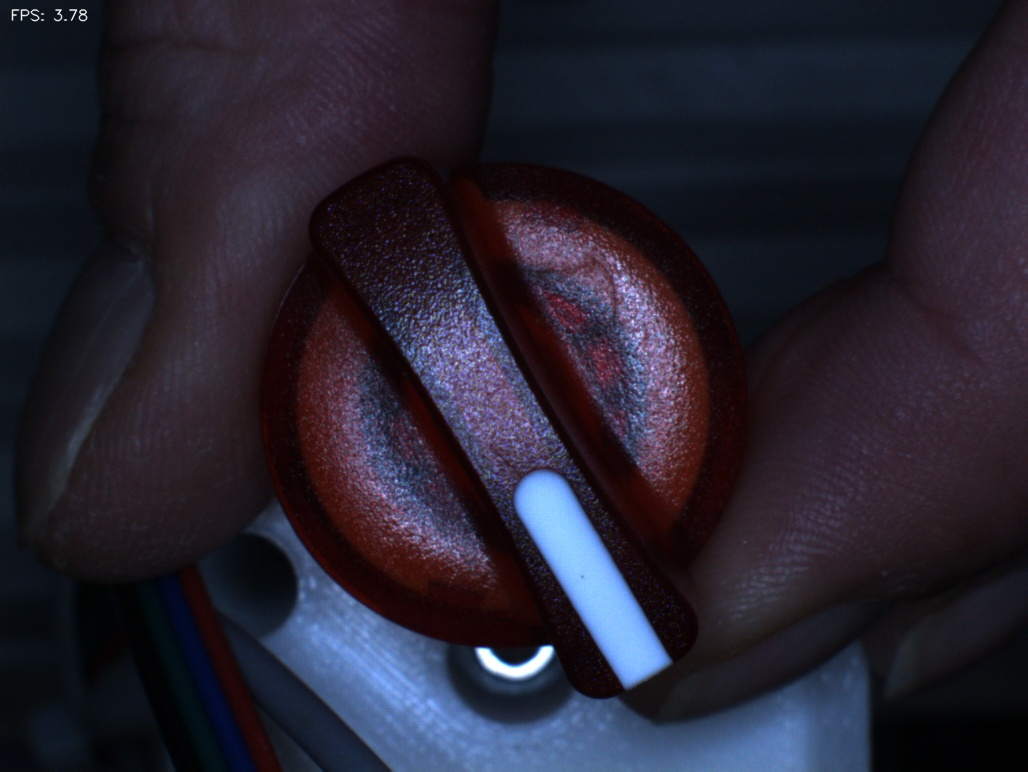PointNoir: (547, 552, 622, 615)
